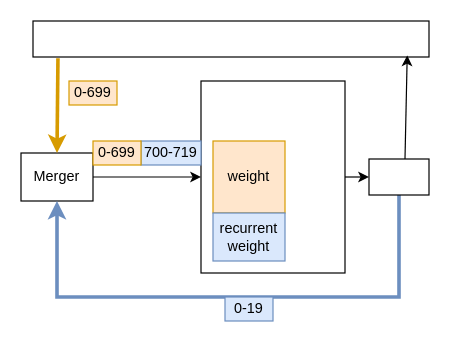
Some shapes in this 450 by 342 pixel diagram are drawn without their labels. The shapes that lost their labels are listed below. From the top down, each one's box as (x1, y1, x2, y2) in pixels, then its label:
(32, 20, 429, 57): UART
(200, 80, 345, 273): neuron module
(368, 158, 429, 195): Splitter
